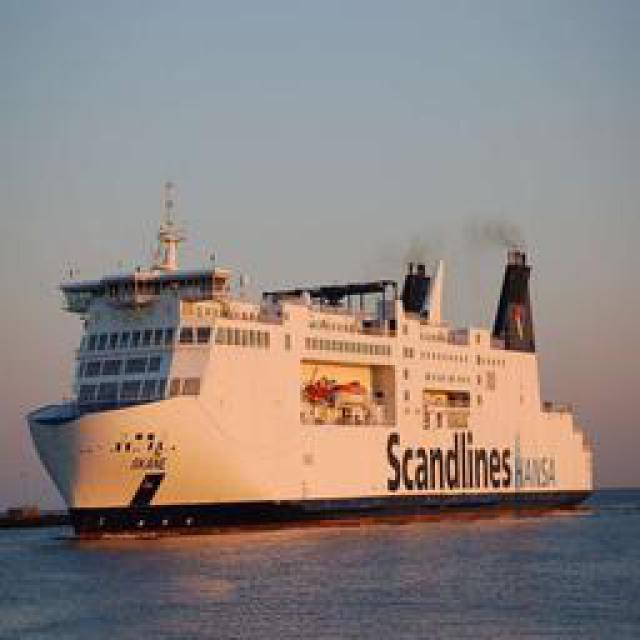Ship: (29, 191, 604, 526)
